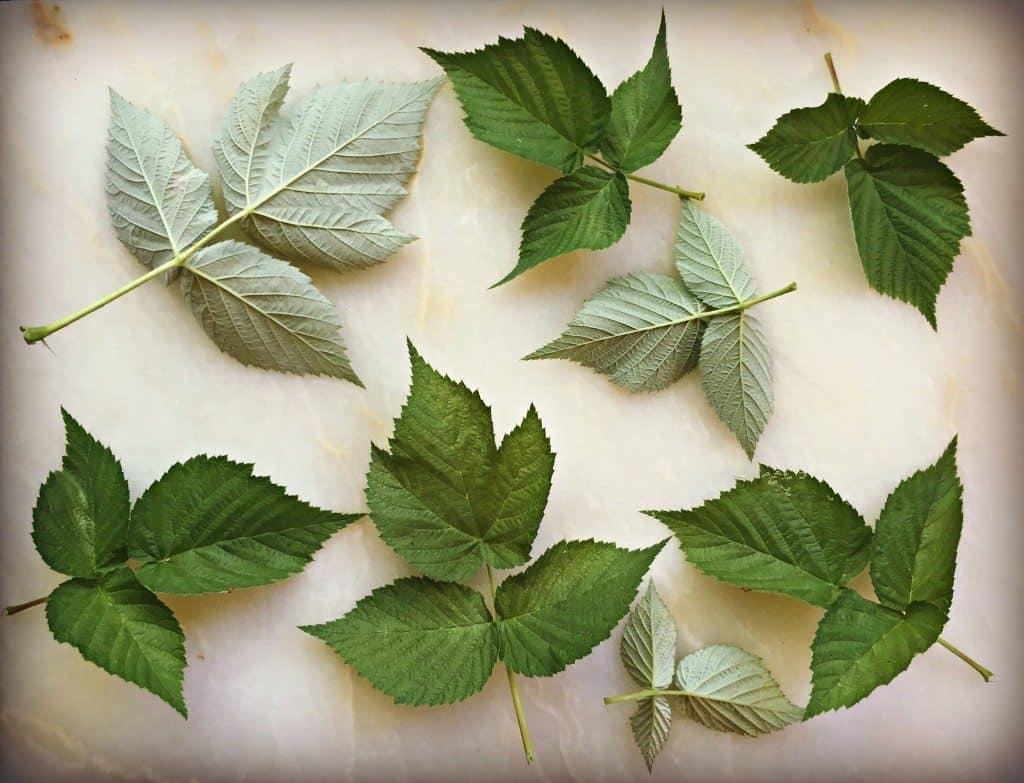Raspberry leaf: (199, 44, 453, 269), (351, 339, 564, 591), (124, 449, 364, 595), (646, 463, 881, 600), (294, 571, 503, 710), (494, 533, 674, 687), (420, 29, 612, 173), (184, 234, 358, 390), (838, 142, 968, 338), (530, 268, 706, 407), (101, 83, 219, 280), (789, 594, 949, 733), (46, 573, 194, 717), (865, 430, 971, 624), (494, 158, 643, 287), (31, 408, 135, 574), (847, 65, 1008, 157), (607, 2, 692, 166), (745, 87, 881, 185), (676, 641, 812, 734), (667, 191, 771, 309), (694, 311, 778, 451), (620, 577, 681, 688), (631, 685, 679, 772)
